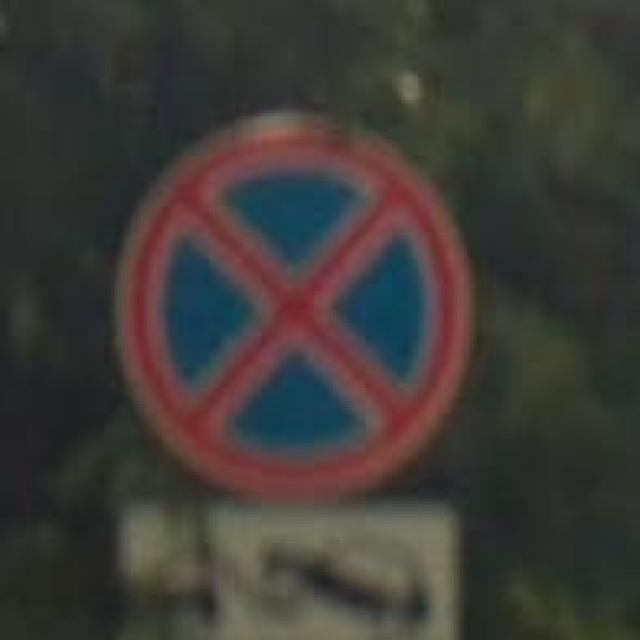Zakaz zatrzymywania sie: (114, 107, 473, 501)
